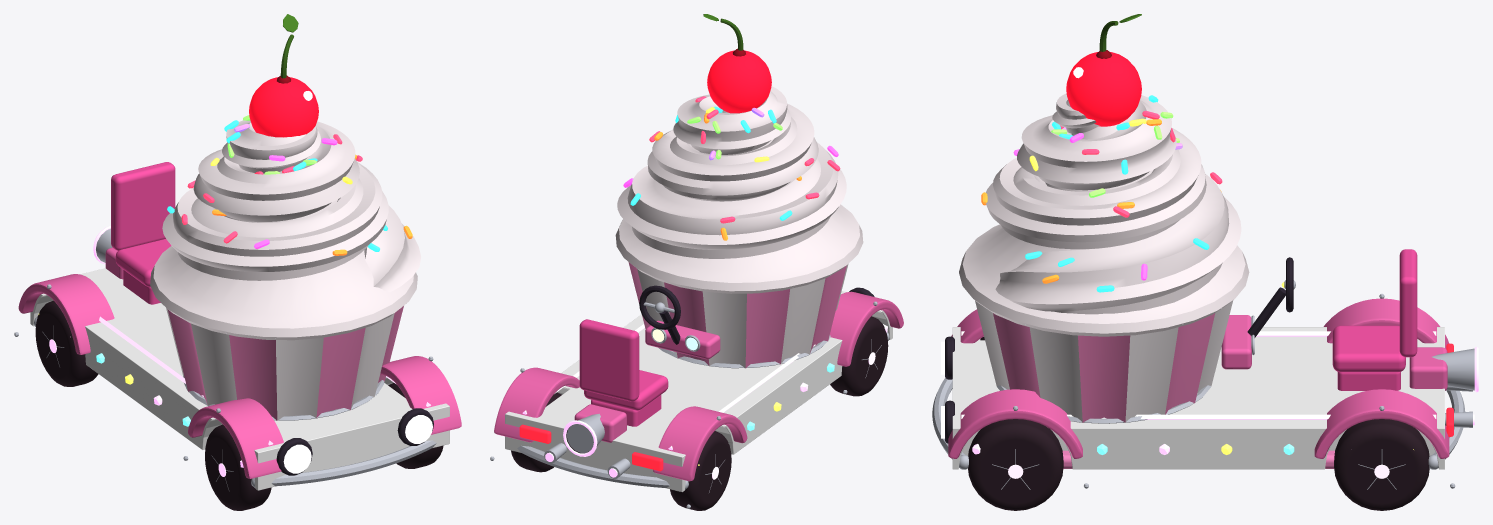
The model's file is frosted_fury.glb.
3 renders of one model, left to right at view 1: azimuth 30°, elevation 25°; view 2: azimuth 150°, elevation 25°; view 3: azimuth 270°, elevation 25°, orthographic. The views are drawn at different scales.
Visible parts, largest first — view 1: frost_rope, plate, wrapper, frost_core, seat_back, fender_1, fender_3, cherry_ball, fender_0, wheel_FR_tyre, wheel_RR_tyre, bumper_1 (+7 smaller); view 2: frost_rope, plate, wrapper, frost_core, seat_back, cherry_ball, fender_3, fender_2, wheel_RR_tyre, wheel_FR_tyre, fender_1, bumper_0 (+8 smaller); view 3: frost_rope, plate, wrapper, frost_core, wheel_RL_tyre, wheel_FL_tyre, cherry_ball, fender_2, fender_0, seat_cushion, fender_3, seat_back (+8 smaller).
Part boxes in pixels (box(x1,y1,x2,y2)): frost_rope: box(162, 120, 420, 292); plate: box(30, 268, 449, 490); wrapper: box(166, 306, 403, 420); frost_core: box(150, 157, 417, 340); seat_back: box(111, 162, 175, 250); fender_1: box(188, 398, 283, 478); fender_3: box(18, 274, 114, 354); cherry_ball: box(249, 77, 318, 137); fender_0: box(380, 356, 461, 434); wheel_FR_tyre: box(205, 424, 271, 510); wheel_RR_tyre: box(35, 300, 98, 386); bumper_1: box(271, 440, 436, 486); frost_rope: box(617, 86, 846, 258); plate: box(505, 291, 892, 492); wrapper: box(628, 262, 848, 368); frost_core: box(615, 110, 863, 293); seat_back: box(579, 319, 639, 401); cherry_ball: box(707, 50, 771, 113); fender_3: box(653, 406, 747, 481); fender_2: box(494, 367, 579, 442); wheel_RR_tyre: box(670, 431, 731, 510); wheel_FR_tyre: box(830, 316, 888, 396); fender_1: box(830, 291, 903, 366); bumper_0: box(517, 445, 669, 487); frost_rope: box(986, 93, 1241, 314); plate: box(952, 327, 1444, 469); wrapper: box(975, 300, 1233, 422); frost_core: box(959, 121, 1249, 336); wheel_RL_tyre: box(1334, 419, 1429, 510); wheel_FL_tyre: box(968, 419, 1063, 510); cherry_ball: box(1066, 52, 1141, 126); fender_2: box(1314, 389, 1449, 458); fender_0: box(948, 389, 1082, 458); seat_cushion: box(1332, 325, 1405, 372); fender_3: box(1323, 298, 1449, 348); seat_back: box(1399, 249, 1417, 357).
Size of the model in its own units: 2.3 by 4 by 4.33.
